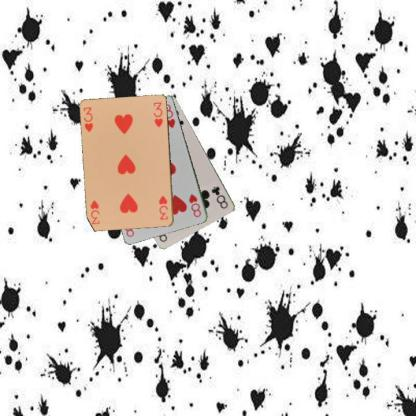3h: (81, 104, 95, 134), (157, 193, 169, 221)
8c: (209, 184, 230, 210)
8h: (186, 192, 202, 219)
